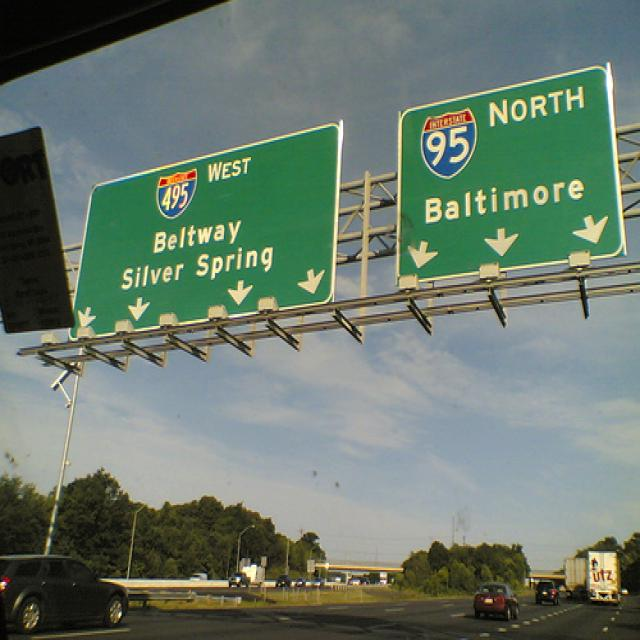Vehicle: (0, 555, 128, 635), (586, 550, 621, 606), (473, 584, 520, 621), (566, 558, 588, 600), (536, 582, 560, 605), (228, 573, 253, 588), (275, 575, 291, 588), (312, 577, 324, 589), (191, 573, 209, 580), (296, 578, 306, 586), (621, 588, 629, 596), (291, 581, 295, 587)
